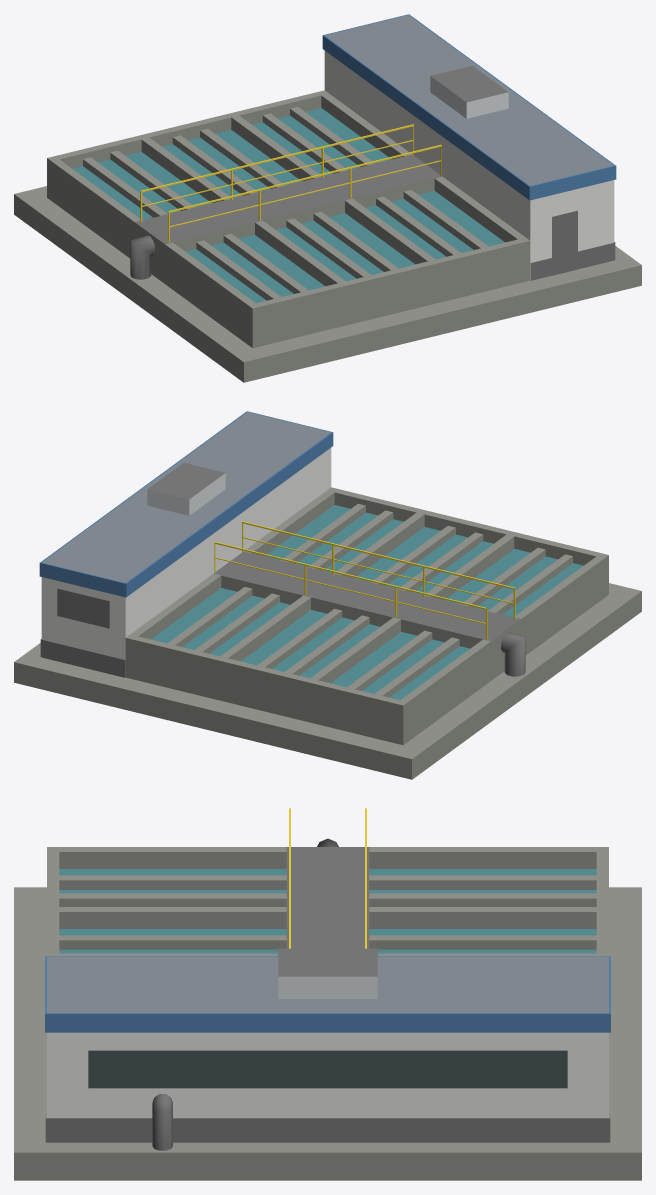
The model's file is mashup-filter-top-prebuilt.fbx.
The picture shows the model from 3 angles, top to bottom: view 1: azimuth 30°, elevation 25°; view 2: azimuth 150°, elevation 25°; view 3: azimuth 270°, elevation 25°; orthographic projection. The views are drawn at different scales.
Parts seen in each view (by area): view 1: a1074/0/mashup-filter-top-prebuilt; view 2: a1074/0/mashup-filter-top-prebuilt; view 3: a1074/0/mashup-filter-top-prebuilt.
Boxes of the visible parts, left/top/right/bottom form: a1074/0/mashup-filter-top-prebuilt: left=14, top=14, right=641, bottom=382; a1074/0/mashup-filter-top-prebuilt: left=14, top=411, right=641, bottom=779; a1074/0/mashup-filter-top-prebuilt: left=14, top=808, right=641, bottom=1180.
Bounding box in the file's own units: 15.2 × 4.8 × 15.2.
